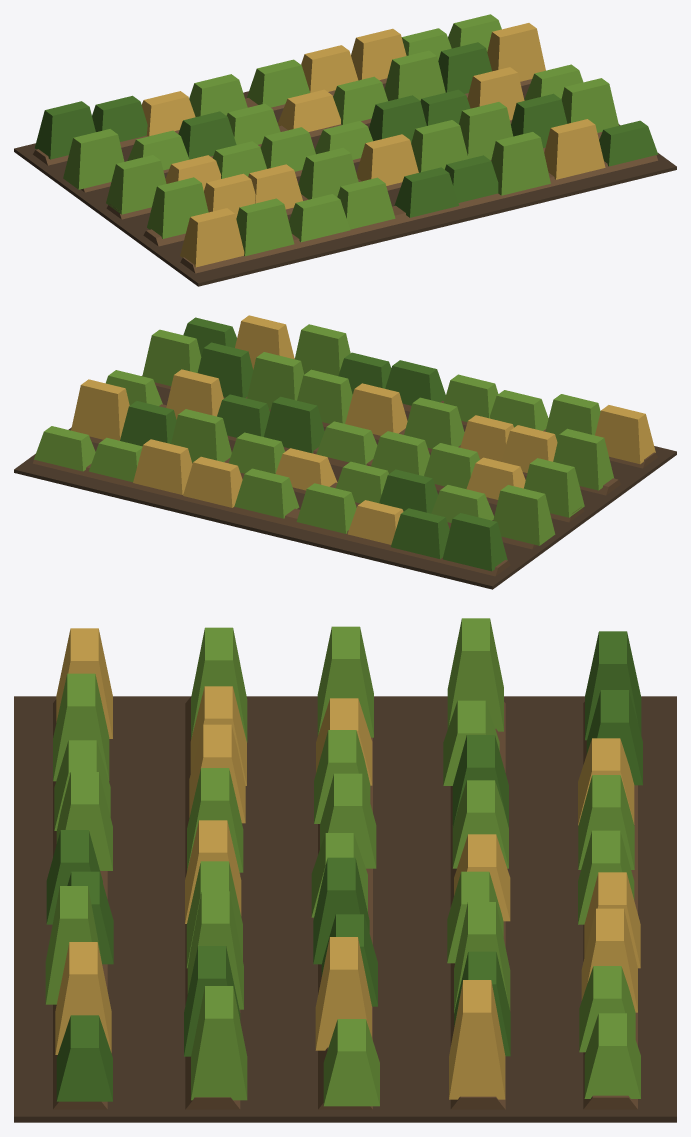
File: desert_crops_a.glb
3 views of the same model, one above another, from view 1: azimuth 30°, elevation 25°; view 2: azimuth 150°, elevation 25°; view 3: azimuth 270°, elevation 25° (orthographic). The views are drawn at different scales.
Visible parts, largest first — view 1: desert_crops_a; view 2: desert_crops_a; view 3: desert_crops_a.
Boxes of the visible parts, box(x1,y1,x2,y2) form: desert_crops_a: box(14, 14, 676, 286); desert_crops_a: box(14, 315, 676, 589); desert_crops_a: box(14, 618, 676, 1122).
Bounding box in the file's own units: 6 × 0.6443 × 4.
